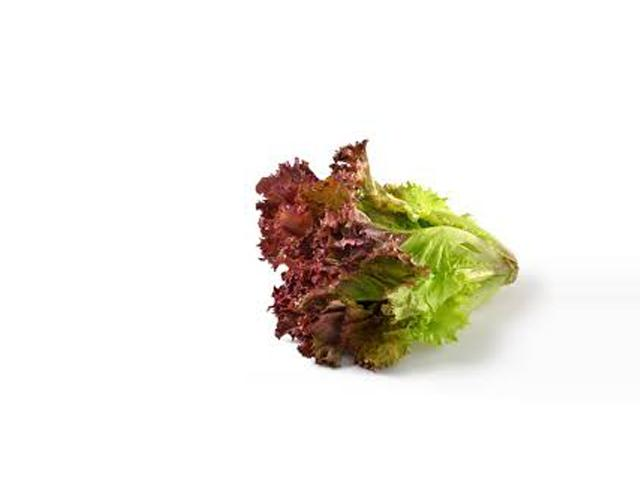lettuce: (241, 147, 551, 375)
